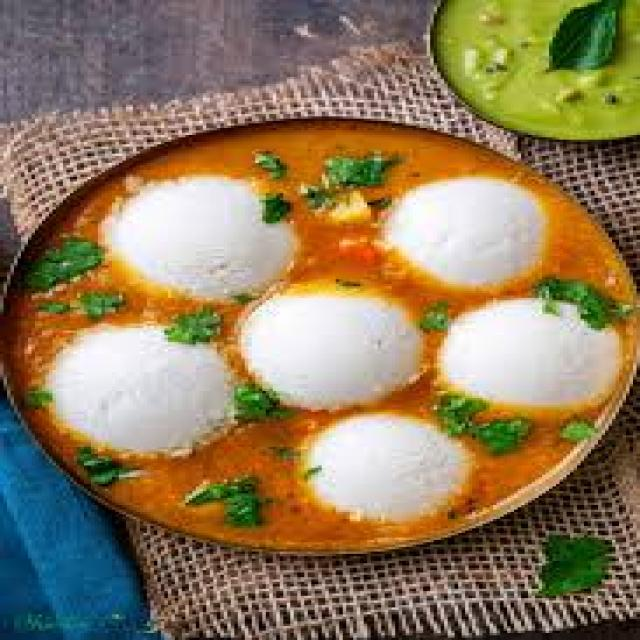IDLI: (45, 326, 227, 451), (105, 179, 287, 296), (241, 291, 420, 405), (441, 300, 616, 405), (308, 417, 469, 521), (385, 179, 542, 284)
